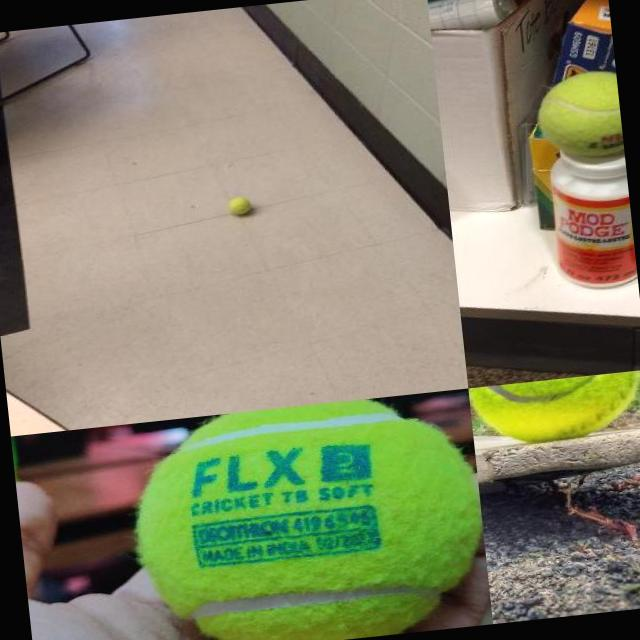tennis-ball: (123, 388, 491, 640), (467, 369, 640, 446), (532, 67, 622, 162), (226, 195, 252, 216)
